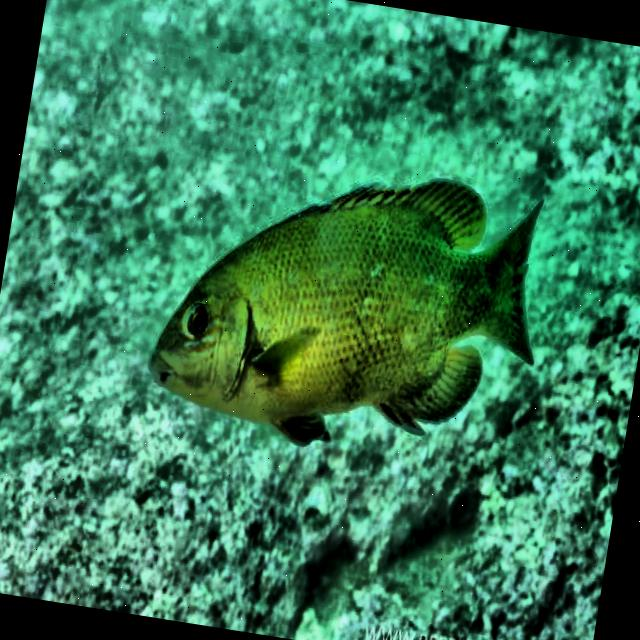fish: (140, 132, 558, 486)
